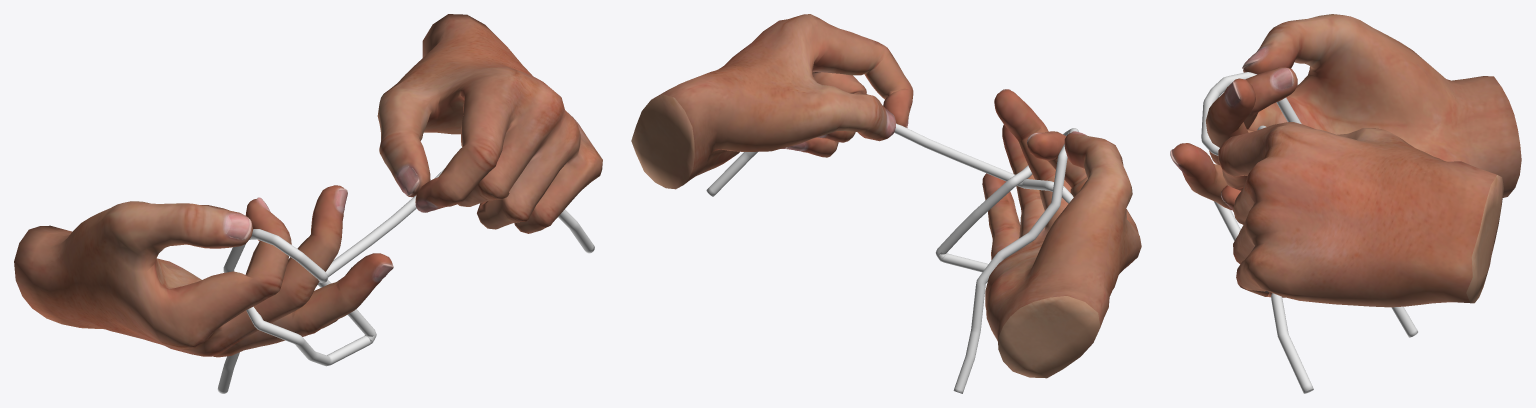
Rendered from mfk_part3_assi_stretch.fbx.
3 renders of one model, left to right at view 1: azimuth 30°, elevation 25°; view 2: azimuth 150°, elevation 25°; view 3: azimuth 270°, elevation 25°, orthographic. The views are drawn at different scales.
Parts seen in each view (by area): view 1: Hand_R, Hand_L, faden_R, faden_L; view 2: Hand_R, Hand_L, faden_R, faden_L; view 3: Hand_L, Hand_R, faden_L, faden_R.
Boxes of the visible parts, x1,y1,x2,y2 form: Hand_R: [14, 185, 393, 357]; Hand_L: [377, 14, 602, 233]; faden_R: [217, 229, 376, 393]; faden_L: [246, 168, 594, 359]; Hand_R: [982, 89, 1141, 378]; Hand_L: [631, 14, 913, 189]; faden_R: [935, 128, 1078, 393]; faden_L: [706, 123, 1073, 203]; Hand_L: [1218, 122, 1503, 307]; Hand_R: [1170, 14, 1521, 224]; faden_L: [1213, 125, 1313, 393]; faden_R: [1201, 72, 1417, 337].
Size of the model in its own units: 32.69 by 19.12 by 18.8.
